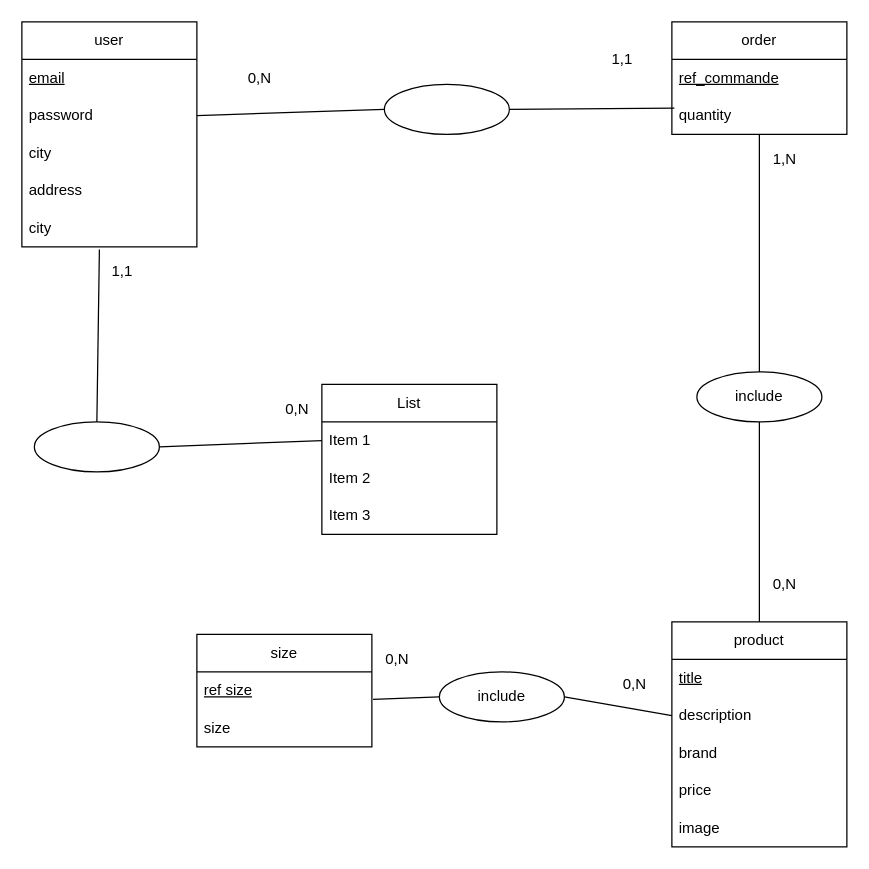
The diagram is 869 pixels wide and 869 high, and some of its shapes have lost their labels. Here are the shapes that lost their labels. From the top down, the centre of each, then its label:
point (446, 108): receive
point (96, 446): is
